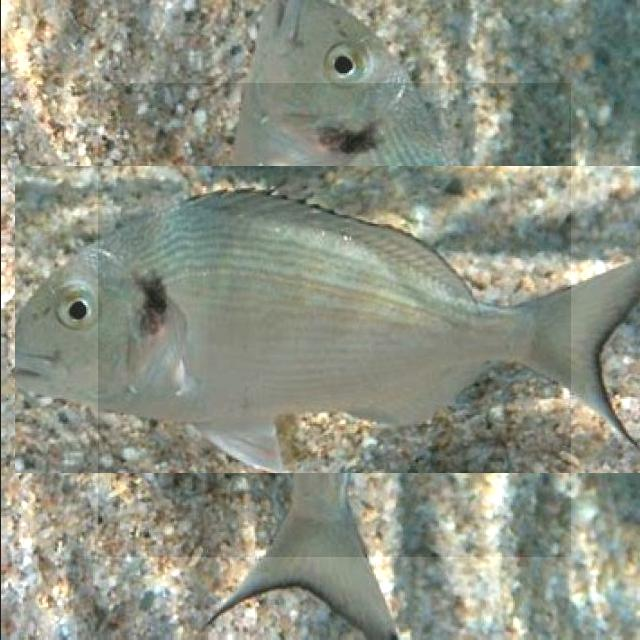Healthy Fish: (97, 83, 570, 557)
